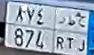4: (35, 7, 46, 49)
7: (25, 5, 34, 49)
8: (14, 6, 24, 46)
J: (76, 14, 88, 52)
R: (56, 14, 65, 52)
T: (66, 12, 75, 52)
